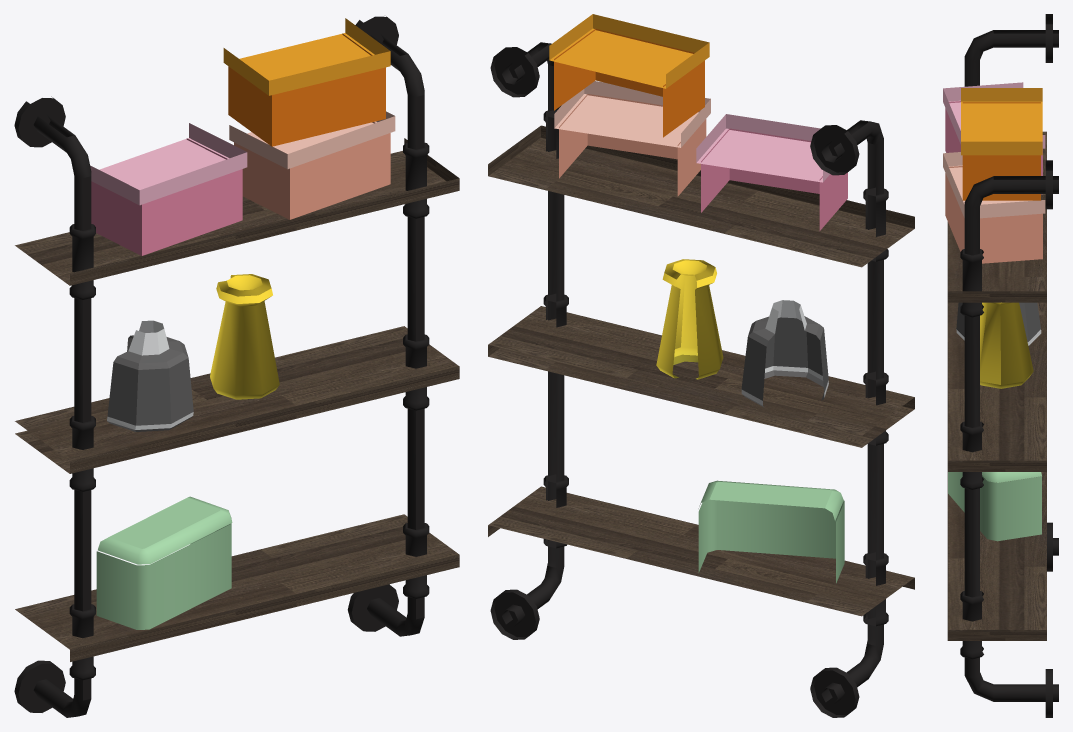
File: M_BRchuangtoujia04.FBX
3 renders of one model, left to right at view 1: azimuth 30°, elevation 25°; view 2: azimuth 150°, elevation 25°; view 3: azimuth 270°, elevation 25°, orthographic. The views are drawn at different scales.
Parts seen in each view (by area): view 1: M_BRchuangtoujia04_02, M_BRchuangtoujia04_01, M_BRchuangtoujia04_03, M_BRchuangtoujia04_04, M_BRchuangtoujia04_05; view 2: M_BRchuangtoujia04_02, M_BRchuangtoujia04_01, M_BRchuangtoujia04_03, M_BRchuangtoujia04_04, M_BRchuangtoujia04_05; view 3: M_BRchuangtoujia04_02, M_BRchuangtoujia04_01, M_BRchuangtoujia04_03, M_BRchuangtoujia04_04.
Part boxes in pixels (x1,y1,x2,y2): M_BRchuangtoujia04_02: [15, 138, 459, 661]; M_BRchuangtoujia04_01: [14, 16, 429, 717]; M_BRchuangtoujia04_03: [90, 18, 395, 255]; M_BRchuangtoujia04_04: [107, 335, 193, 431]; M_BRchuangtoujia04_05: [107, 320, 193, 429]; M_BRchuangtoujia04_02: [488, 125, 914, 616]; M_BRchuangtoujia04_01: [490, 42, 888, 717]; M_BRchuangtoujia04_03: [549, 14, 847, 230]; M_BRchuangtoujia04_04: [741, 316, 828, 407]; M_BRchuangtoujia04_05: [741, 300, 828, 405]; M_BRchuangtoujia04_02: [947, 131, 1046, 640]; M_BRchuangtoujia04_01: [948, 14, 1058, 717]; M_BRchuangtoujia04_03: [943, 82, 1045, 263]; M_BRchuangtoujia04_04: [956, 302, 1040, 341].
Bounding box in the file's own units: 1.52 × 2.33 × 0.437.
